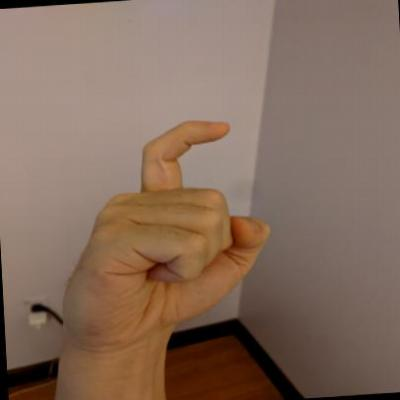hand: (40, 114, 279, 351)
